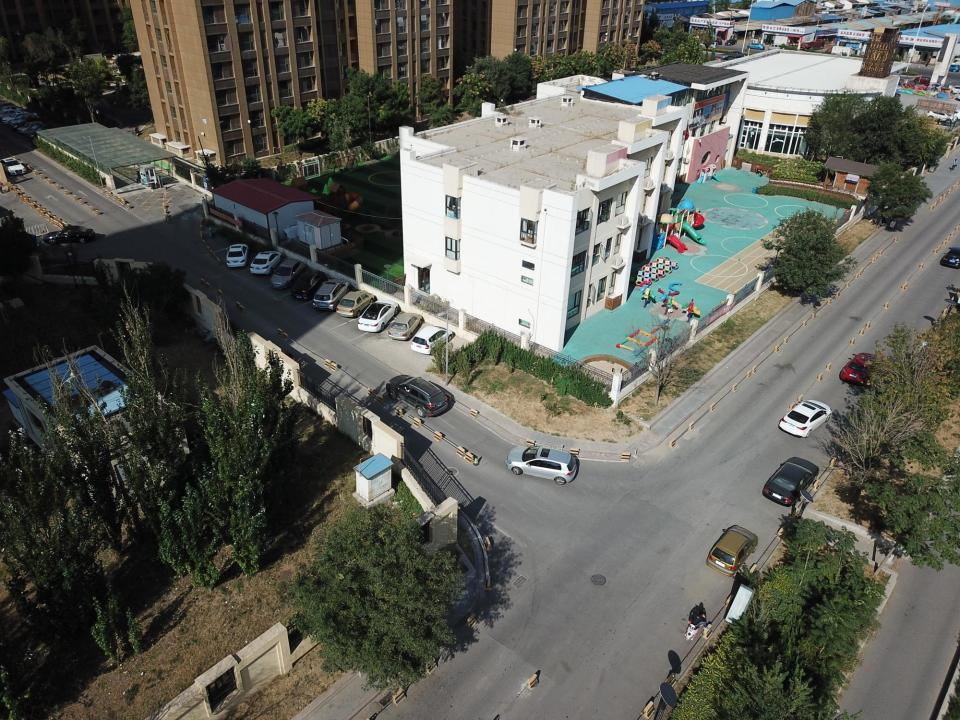car: (505, 446, 577, 485), (762, 456, 819, 505), (386, 374, 448, 418), (706, 526, 758, 576), (779, 400, 832, 437), (840, 352, 882, 386), (358, 300, 398, 332), (411, 326, 453, 356), (312, 279, 350, 310), (270, 258, 305, 288), (336, 291, 374, 317), (291, 271, 326, 299), (42, 226, 96, 244), (388, 312, 422, 340), (250, 251, 282, 275), (226, 244, 248, 267), (927, 108, 957, 123), (0, 157, 26, 174), (11, 116, 40, 131), (2, 112, 38, 124), (9, 113, 39, 127), (942, 247, 960, 268), (28, 126, 55, 139), (17, 121, 43, 134), (23, 124, 49, 137), (938, 108, 960, 121), (914, 76, 938, 86), (0, 109, 23, 119), (0, 105, 24, 113), (0, 101, 14, 111), (943, 64, 960, 72), (746, 42, 764, 49), (724, 38, 738, 46)
truck: (800, 39, 826, 51)
van: (698, 40, 717, 50), (768, 44, 785, 52)
